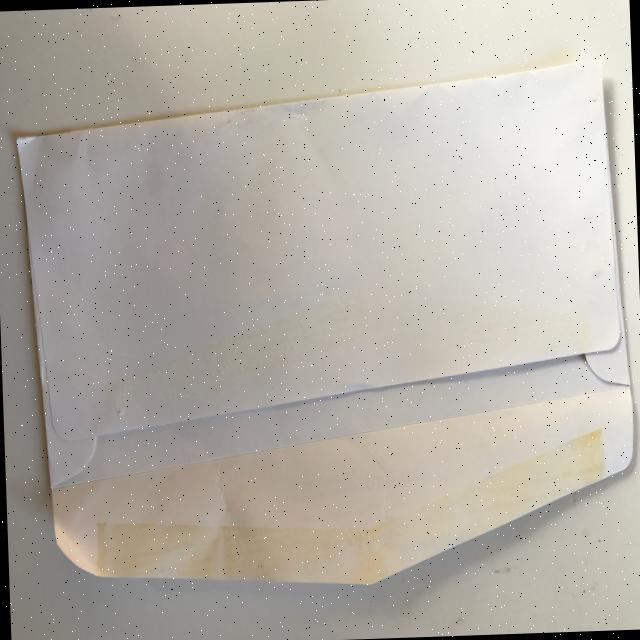paper: (14, 56, 638, 594)
